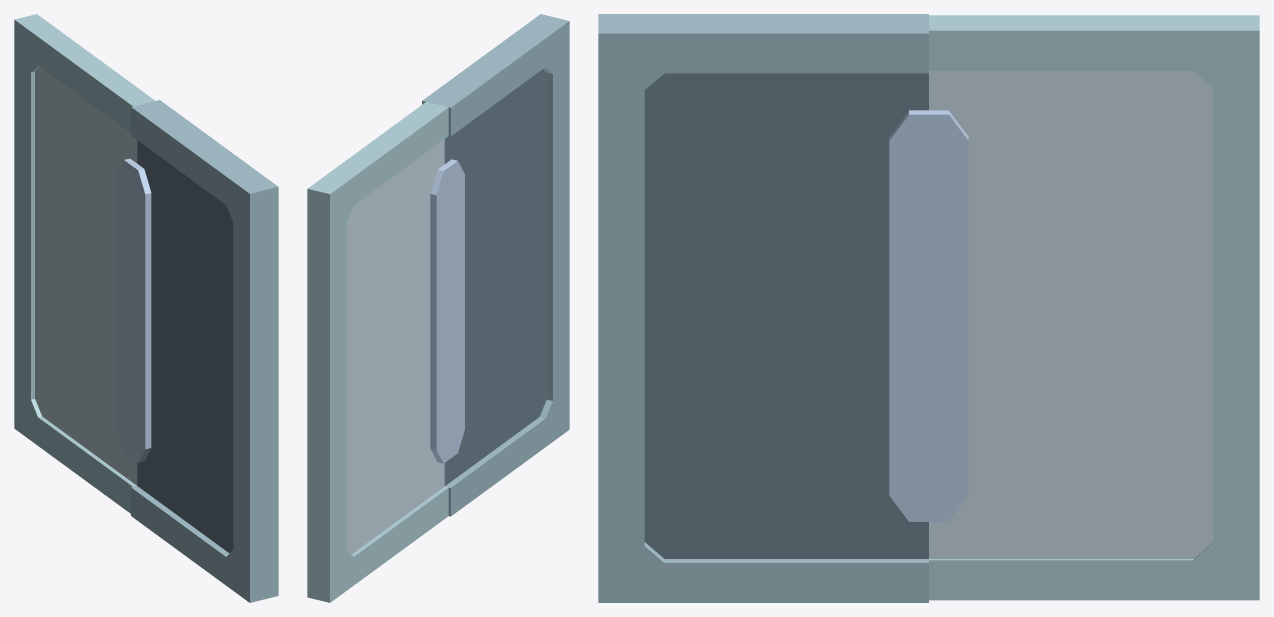
File: door-02.fbx
3 renders of one model, left to right at view 1: azimuth 30°, elevation 25°; view 2: azimuth 150°, elevation 25°; view 3: azimuth 270°, elevation 25°, orthographic. The views are drawn at different scales.
Visible parts, largest first — view 1: door-02-L, door-02-R; view 2: door-02-L, door-02-R; view 3: door-02-L, door-02-R.
Boxes of the visible parts, bbox=[...] form: door-02-L: bbox=[116, 100, 278, 602]; door-02-R: bbox=[14, 14, 155, 513]; door-02-L: bbox=[422, 14, 569, 516]; door-02-R: bbox=[307, 102, 448, 602]; door-02-L: bbox=[598, 14, 968, 602]; door-02-R: bbox=[929, 15, 1259, 600].
Size of the model in its own units: 7 by 95 by 100.
